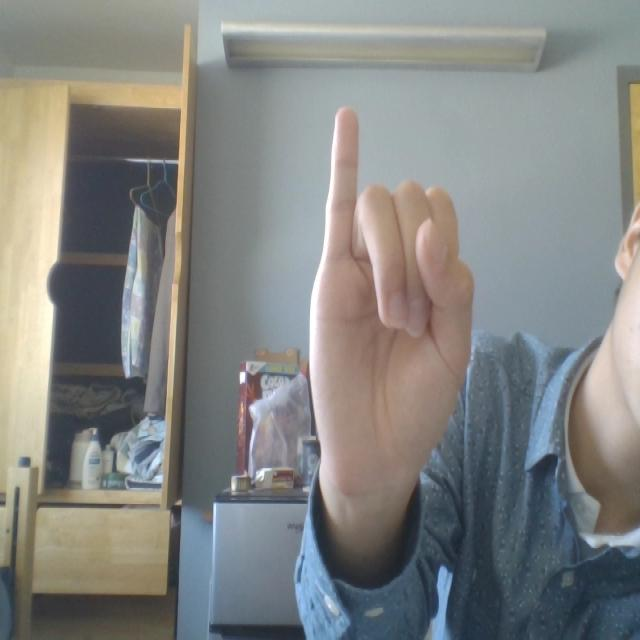I: (277, 76, 528, 587)
